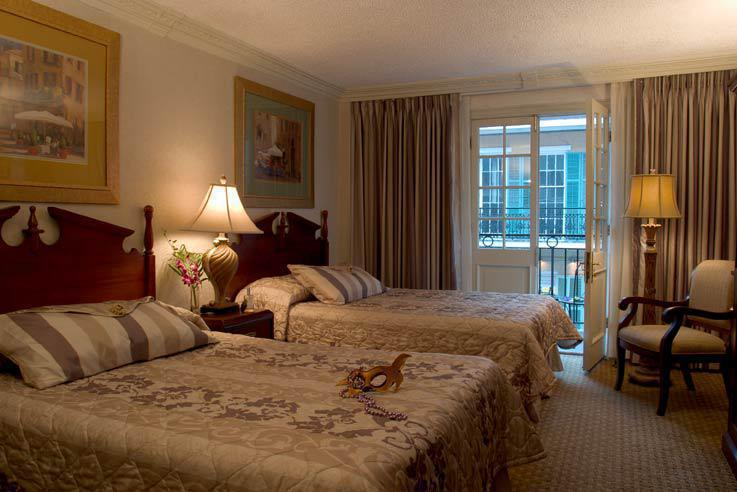Cama: (21, 299, 509, 474), (251, 261, 579, 348)
